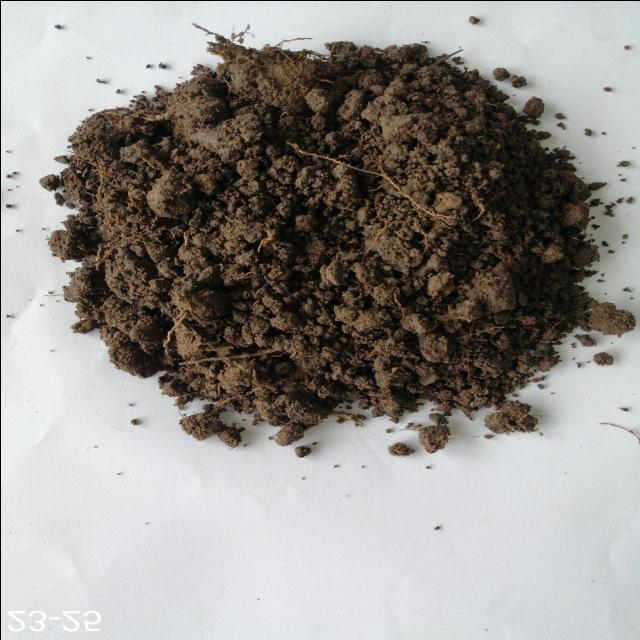soil: (154, 110, 510, 344)
